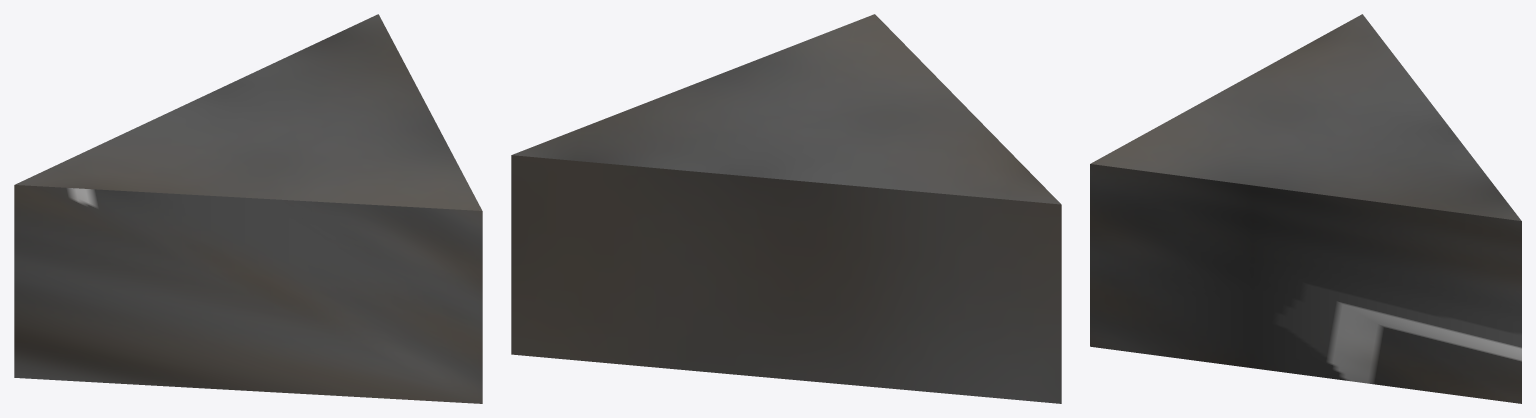
The model's file is ishi_01_7_1.fbx.
3 views of the same model, side by side, from view 1: azimuth 30°, elevation 25°; view 2: azimuth 150°, elevation 25°; view 3: azimuth 270°, elevation 25° (orthographic). The views are drawn at different scales.
Parts seen in each view (by area): view 1: polySurface7; view 2: polySurface7; view 3: polySurface7.
Boxes of the visible parts, <box> form: polySurface7: <box>14,14,482,403</box>; polySurface7: <box>511,14,1061,403</box>; polySurface7: <box>1090,14,1521,403</box>.
Bounding box in the file's own units: 11.32 × 4.66 × 9.97.
Materials: 1 (1 with a texture image).
